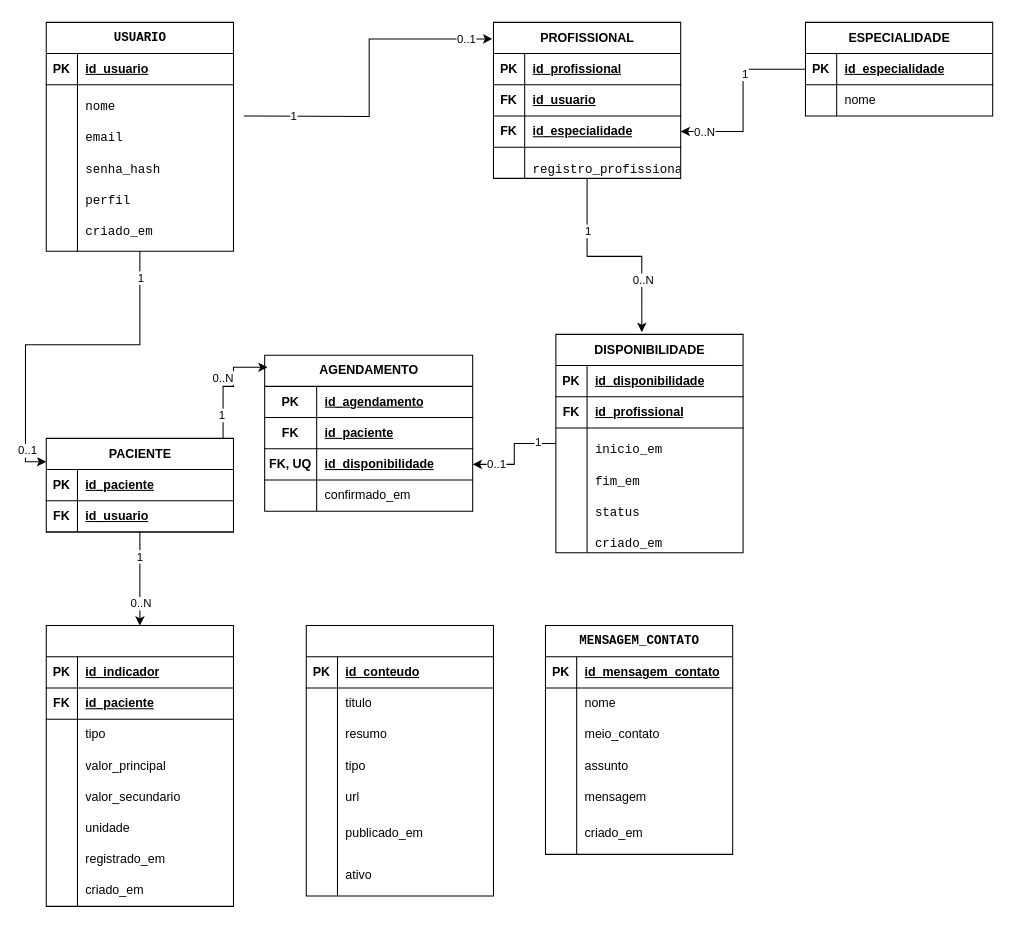
Image size: 1011x925. Some labels were removed from this diagram. Each missing label, with the box of its shape:
CONTEUDO_EDUCATIVO: (305, 625, 493, 896)
INDICADOR_SAUDE: (45, 625, 233, 906)
